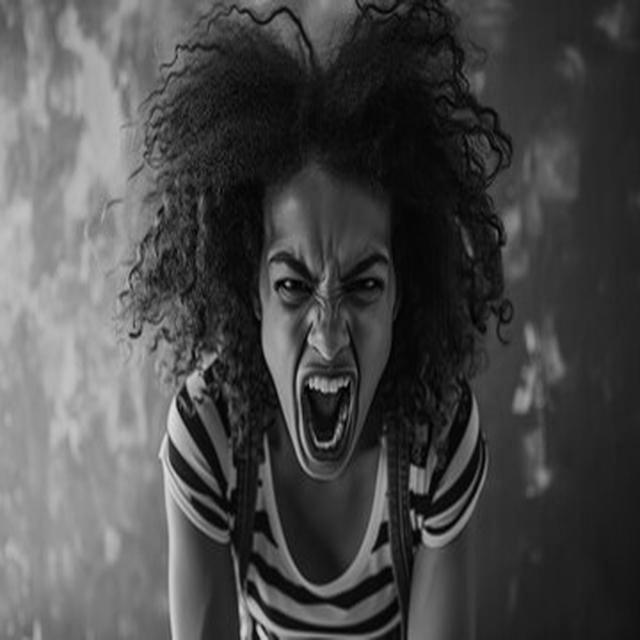Angry: (259, 179, 397, 480)
